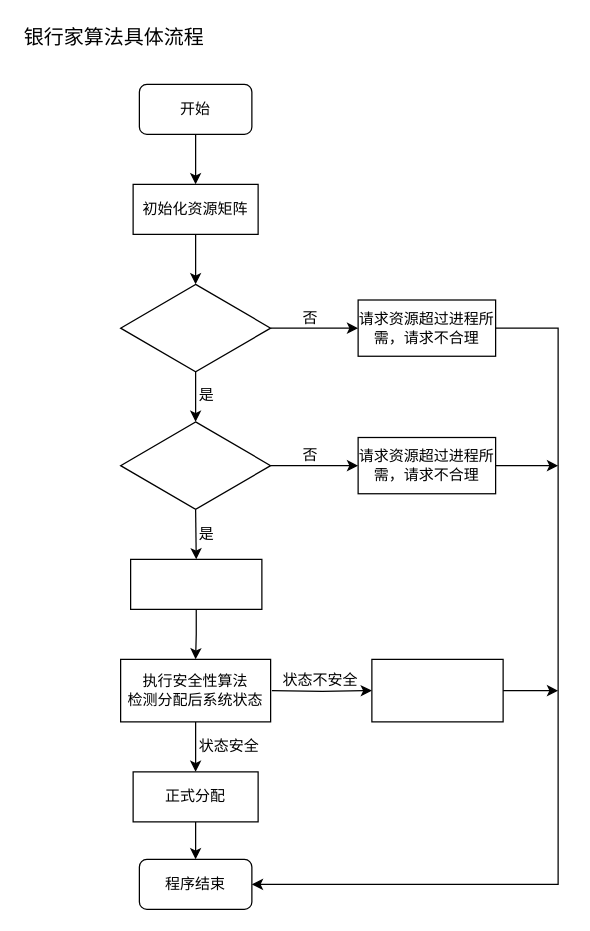
Image size: 590x931. Some labels were removed from this diagram. Each missing label, with the centre of its shape:
"Request ≤ Available" belongs at (195,465).
"Request ≤ Need" belongs at (195,327).
"系统预分配 修改资源矩阵" belongs at (195,583).
"预分配作废 将资源矩阵复原" belongs at (437,690).
